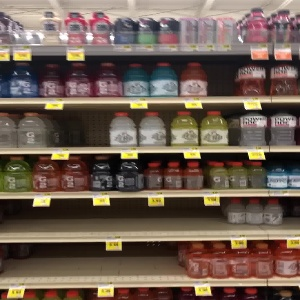void: (1, 194, 227, 236), (1, 241, 179, 283), (64, 104, 110, 147), (206, 56, 239, 98)
